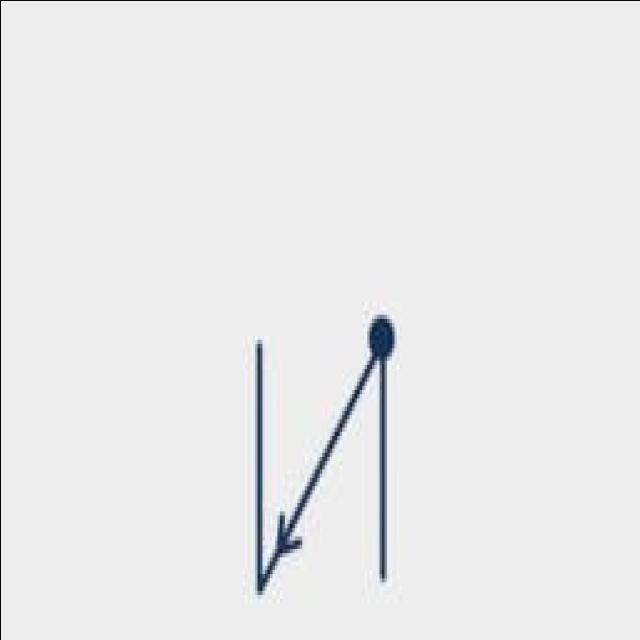Check Valve: (242, 248, 458, 624)
